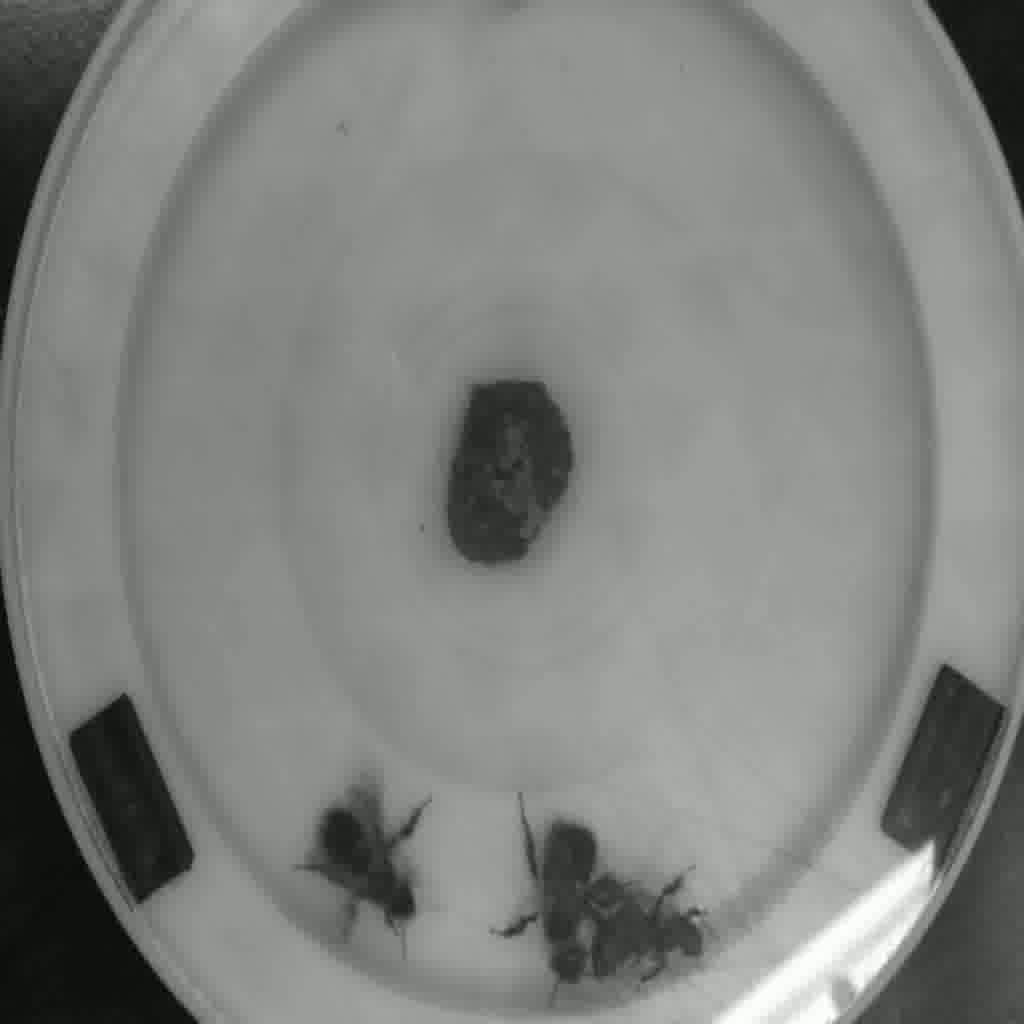bee: (501, 798, 602, 994), (299, 794, 434, 940), (583, 873, 710, 988)
